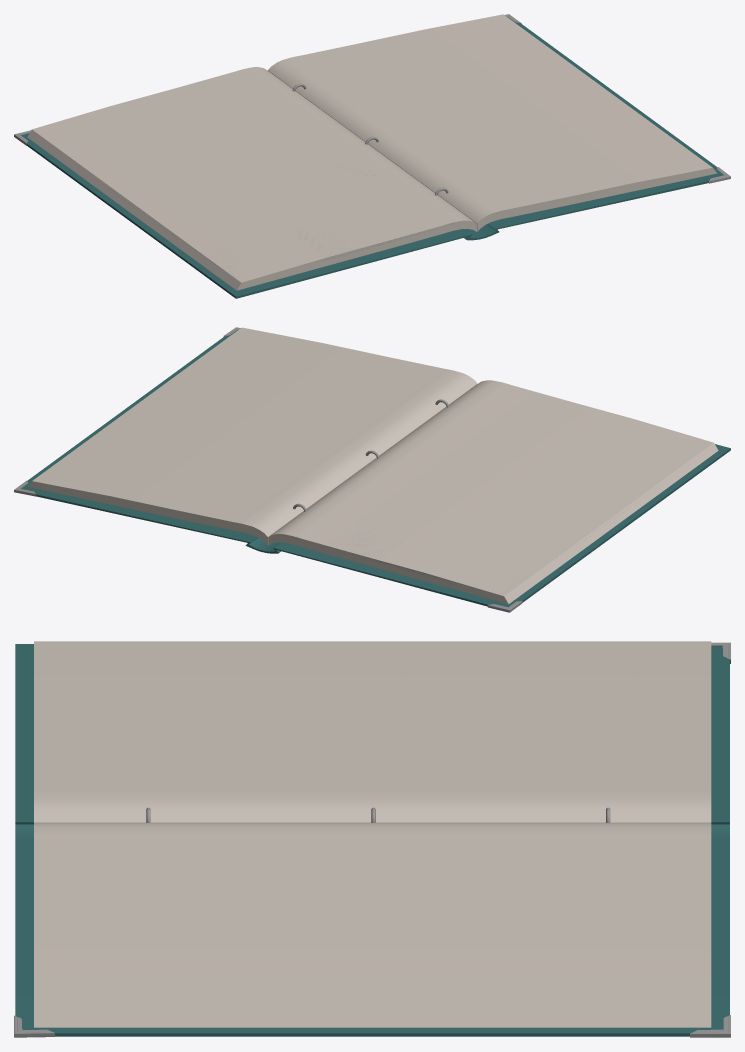
File: Mesh_Attribute_Book_01.fbx
3 renders of one model, top to bottom at view 1: azimuth 30°, elevation 25°; view 2: azimuth 150°, elevation 25°; view 3: azimuth 270°, elevation 25°, orthographic. The views are drawn at different scales.
Visible parts, largest first — view 1: pages, pages1, Book_Cover, pages2; view 2: pages, pages1, Book_Cover, pages2; view 3: pages1, pages, Book_Cover.
Boxes of the visible parts, x1=… form: pages: x1=27, y1=67, x2=476, y2=290; pages1: x1=268, y1=14, x2=717, y2=231; Book_Cover: x1=21, y1=17, x2=723, y2=298; pages2: x1=107, y1=154, x2=476, y2=279; pages: x1=268, y1=380, x2=718, y2=604; pages1: x1=27, y1=327, x2=477, y2=544; Book_Cover: x1=21, y1=330, x2=730, y2=607; pages2: x1=277, y1=450, x2=708, y2=595; pages1: x1=34, y1=822, x2=711, y2=1027; pages: x1=34, y1=641, x2=711, y2=822; Book_Cover: x1=15, y1=644, x2=729, y2=1036.
Size of the model in its own units: 49.86 by 2.02 by 38.71.
